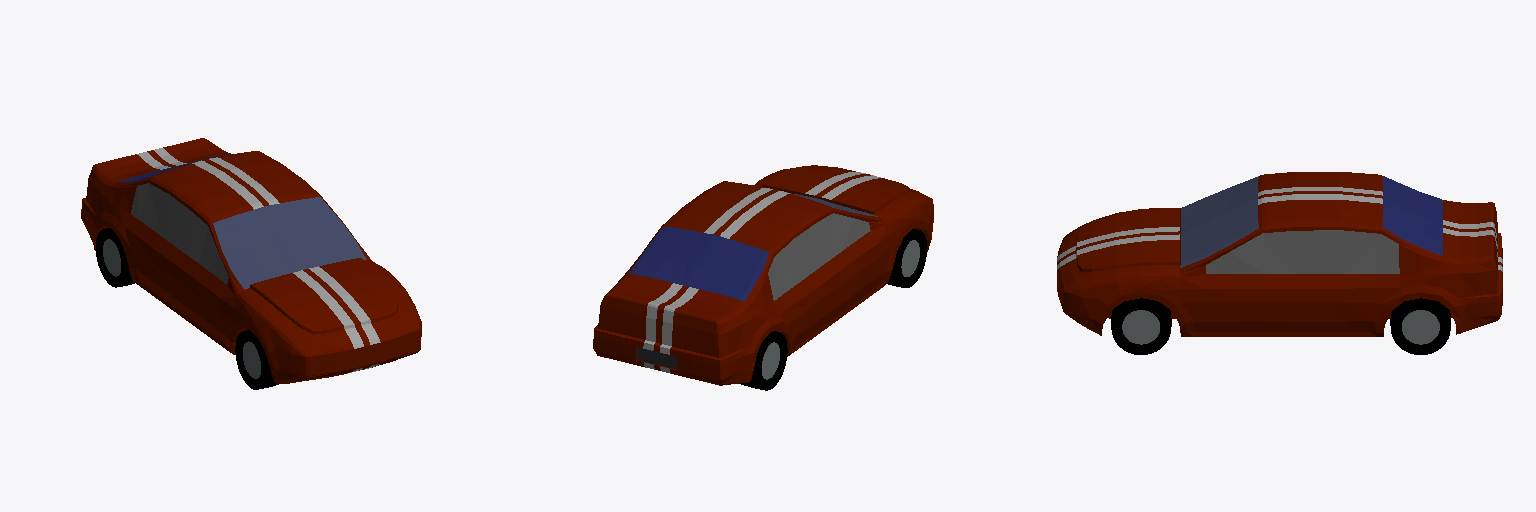
Rendered from car.obj.
3 renders of one model, left to right at view 1: azimuth 30°, elevation 25°; view 2: azimuth 150°, elevation 25°; view 3: azimuth 270°, elevation 25°, orthographic.
Parts seen in each view (by area): view 1: Mesh_Mesh.002_Car_Blue_Cub; view 2: Mesh_Mesh.002_Car_Blue_Cub; view 3: Mesh_Mesh.002_Car_Blue_Cub.
Boxes of the visible parts, box(x1,y1,x2,y2) form: Mesh_Mesh.002_Car_Blue_Cub: box(81, 138, 421, 389); Mesh_Mesh.002_Car_Blue_Cub: box(593, 165, 933, 390); Mesh_Mesh.002_Car_Blue_Cub: box(1057, 172, 1502, 354).
Bounding box in the file's own units: 1.87 × 1.51 × 4.8.